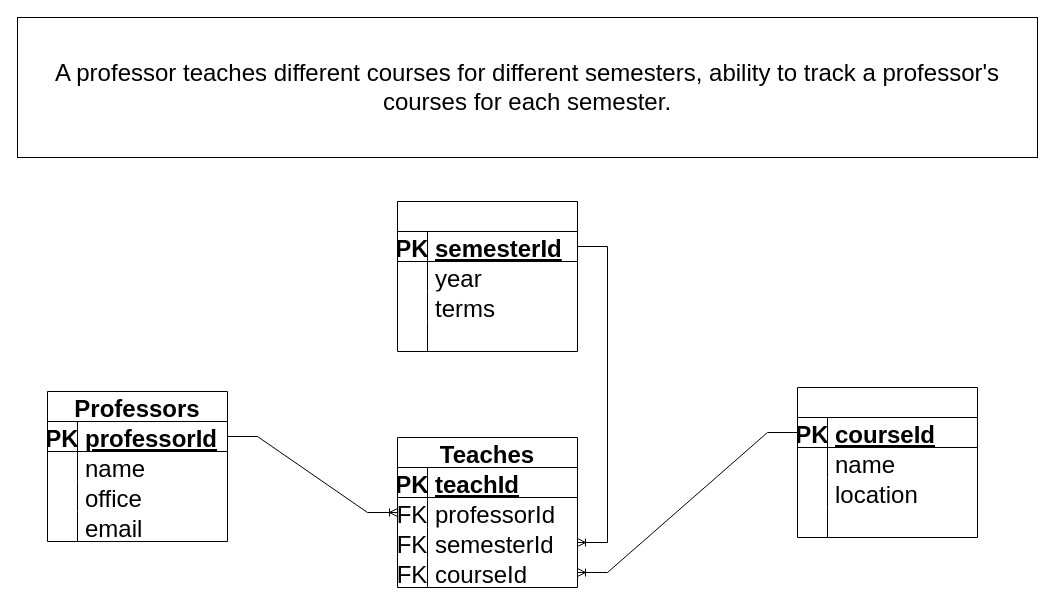
This 1055x605 diagram has some shape labels left out. The box of each missing label's shape, as (x1, y1, x2, y2) in pixels:
Courses: (796, 386, 978, 538)
Semesters: (396, 200, 578, 352)
